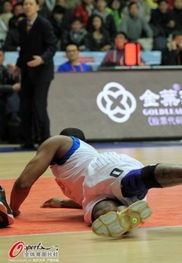falling: (7, 125, 174, 241)
